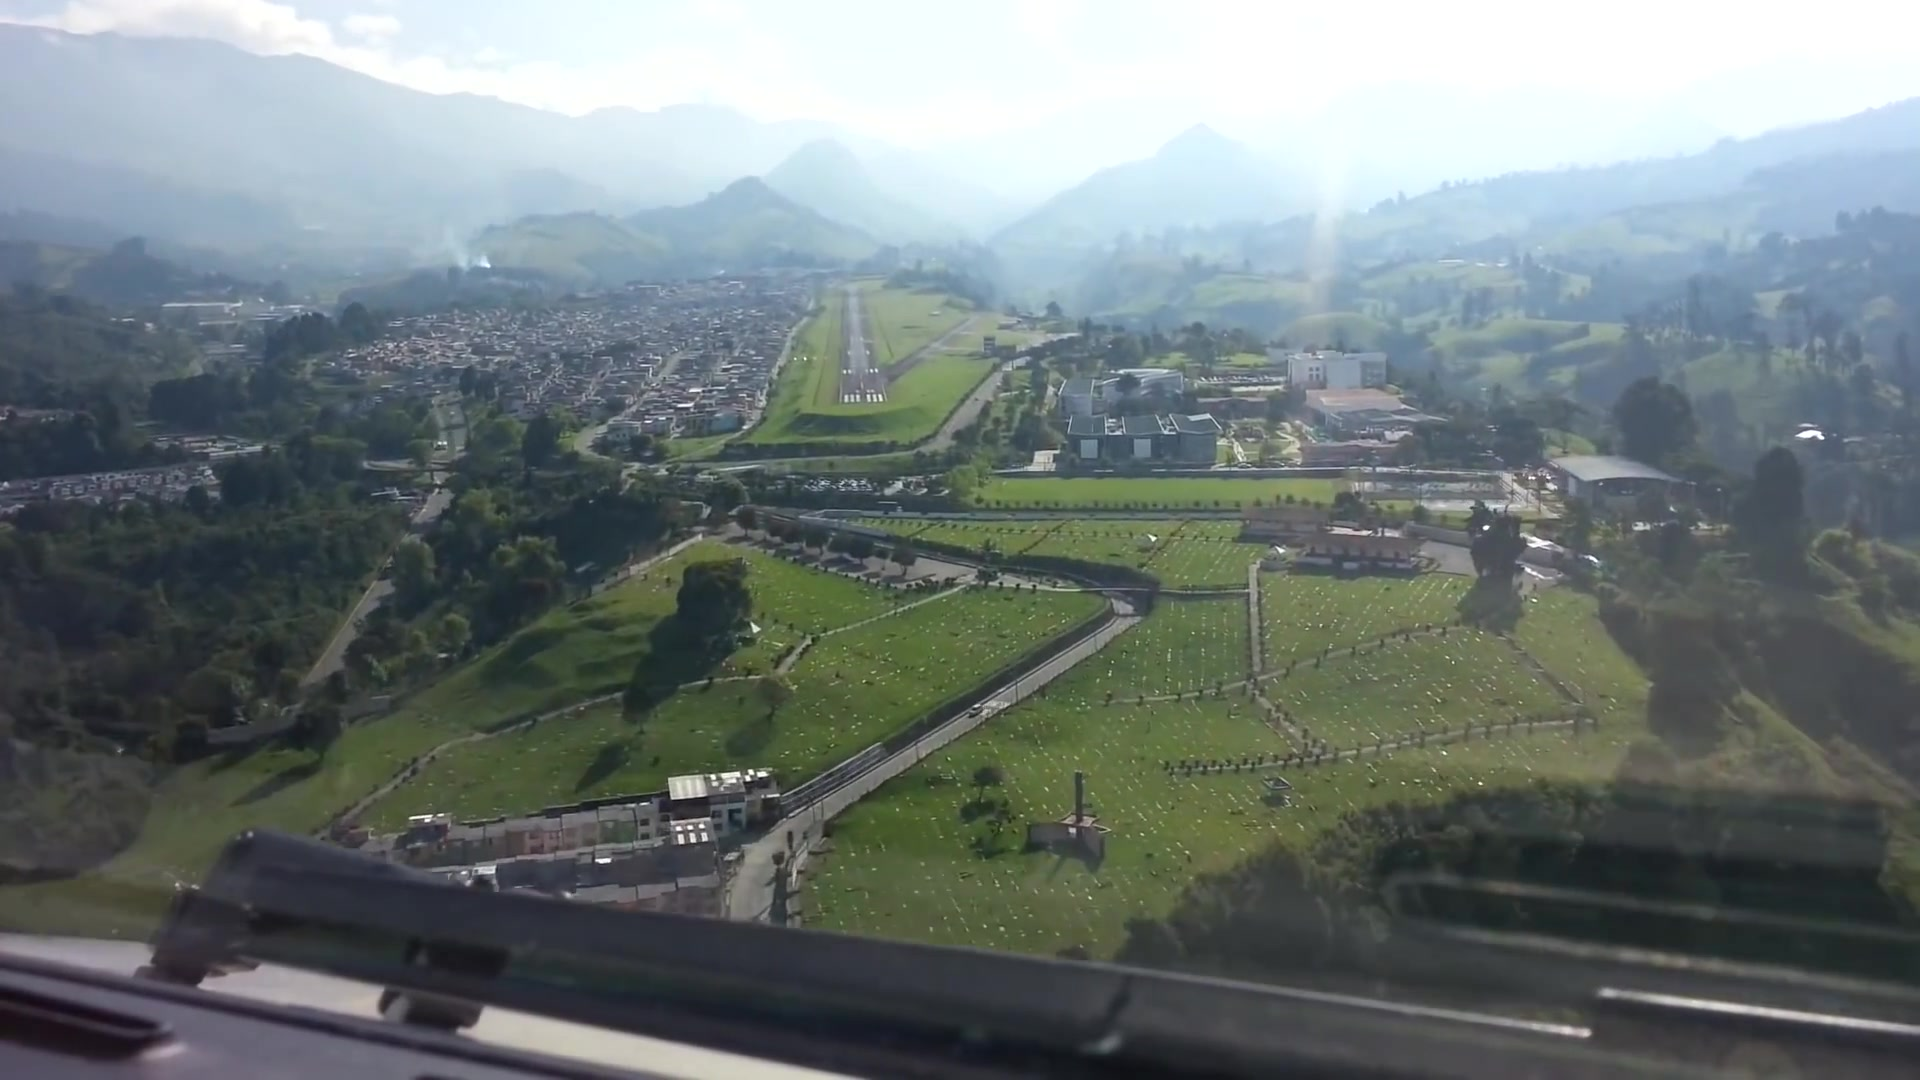entrance: (843, 393, 884, 404)
runway: (837, 295, 891, 405)
